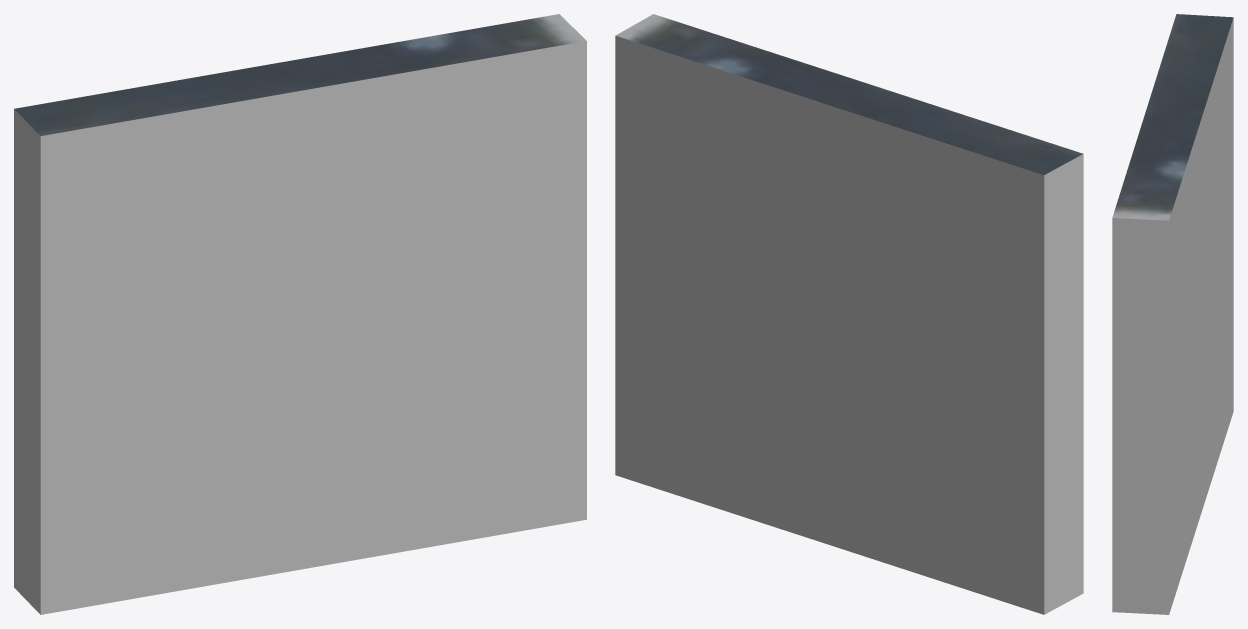
File: DEBW_0010007Tx4K.gltf
3 views of the same model, side by side, from view 1: azimuth 30°, elevation 25°; view 2: azimuth 150°, elevation 25°; view 3: azimuth 270°, elevation 25° (orthographic). The views are drawn at different scales.
Visible parts, largest first — view 1: Z_UP; view 2: Z_UP; view 3: Z_UP.
Boxes of the visible parts, bbox=[...] form: Z_UP: bbox=[14, 14, 586, 614]; Z_UP: bbox=[615, 14, 1083, 614]; Z_UP: bbox=[1112, 14, 1233, 614].
Size of the model in its own units: 12.58 by 11.19 by 3.12.
Materials: 2 (1 with a texture image).
